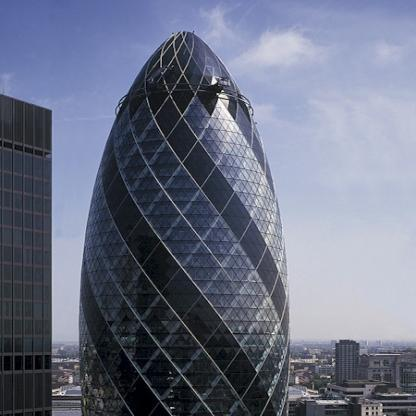Building Outline: (80, 31, 290, 416)
Dont: (115, 67, 254, 116)
Facade: (125, 103, 239, 416)
Floor: (157, 90, 200, 103), (157, 75, 200, 87), (157, 153, 200, 164), (157, 203, 200, 214), (157, 255, 200, 266), (157, 269, 200, 280), (157, 282, 200, 293), (157, 295, 200, 306), (157, 309, 200, 320), (157, 322, 200, 333), (157, 336, 200, 347), (157, 362, 200, 373), (157, 129, 200, 139), (157, 190, 200, 200), (157, 216, 200, 226), (157, 229, 200, 239), (157, 242, 200, 252), (157, 376, 200, 386), (157, 389, 200, 399), (157, 402, 200, 412), (157, 117, 200, 126), (157, 141, 200, 150), (157, 166, 200, 175), (157, 178, 200, 187), (157, 350, 200, 359), (157, 63, 200, 72), (157, 106, 200, 114), (157, 414, 199, 416)
Floor Slab: (157, 412, 200, 415), (157, 399, 200, 402), (157, 386, 200, 389), (157, 373, 200, 376), (157, 359, 200, 362), (157, 347, 200, 350), (157, 333, 200, 336), (157, 320, 200, 323), (157, 306, 200, 309), (157, 293, 200, 296), (157, 280, 200, 283), (157, 266, 200, 269), (157, 253, 200, 256), (157, 239, 200, 242), (157, 226, 200, 229), (157, 214, 200, 217), (157, 201, 200, 204), (157, 187, 200, 190), (157, 175, 200, 178), (157, 164, 200, 167), (157, 150, 200, 153), (157, 139, 200, 142), (157, 126, 200, 129), (157, 115, 200, 118), (157, 60, 200, 63), (157, 103, 200, 106), (157, 87, 200, 90), (157, 72, 200, 75)
Top Floor: (157, 31, 200, 60)
